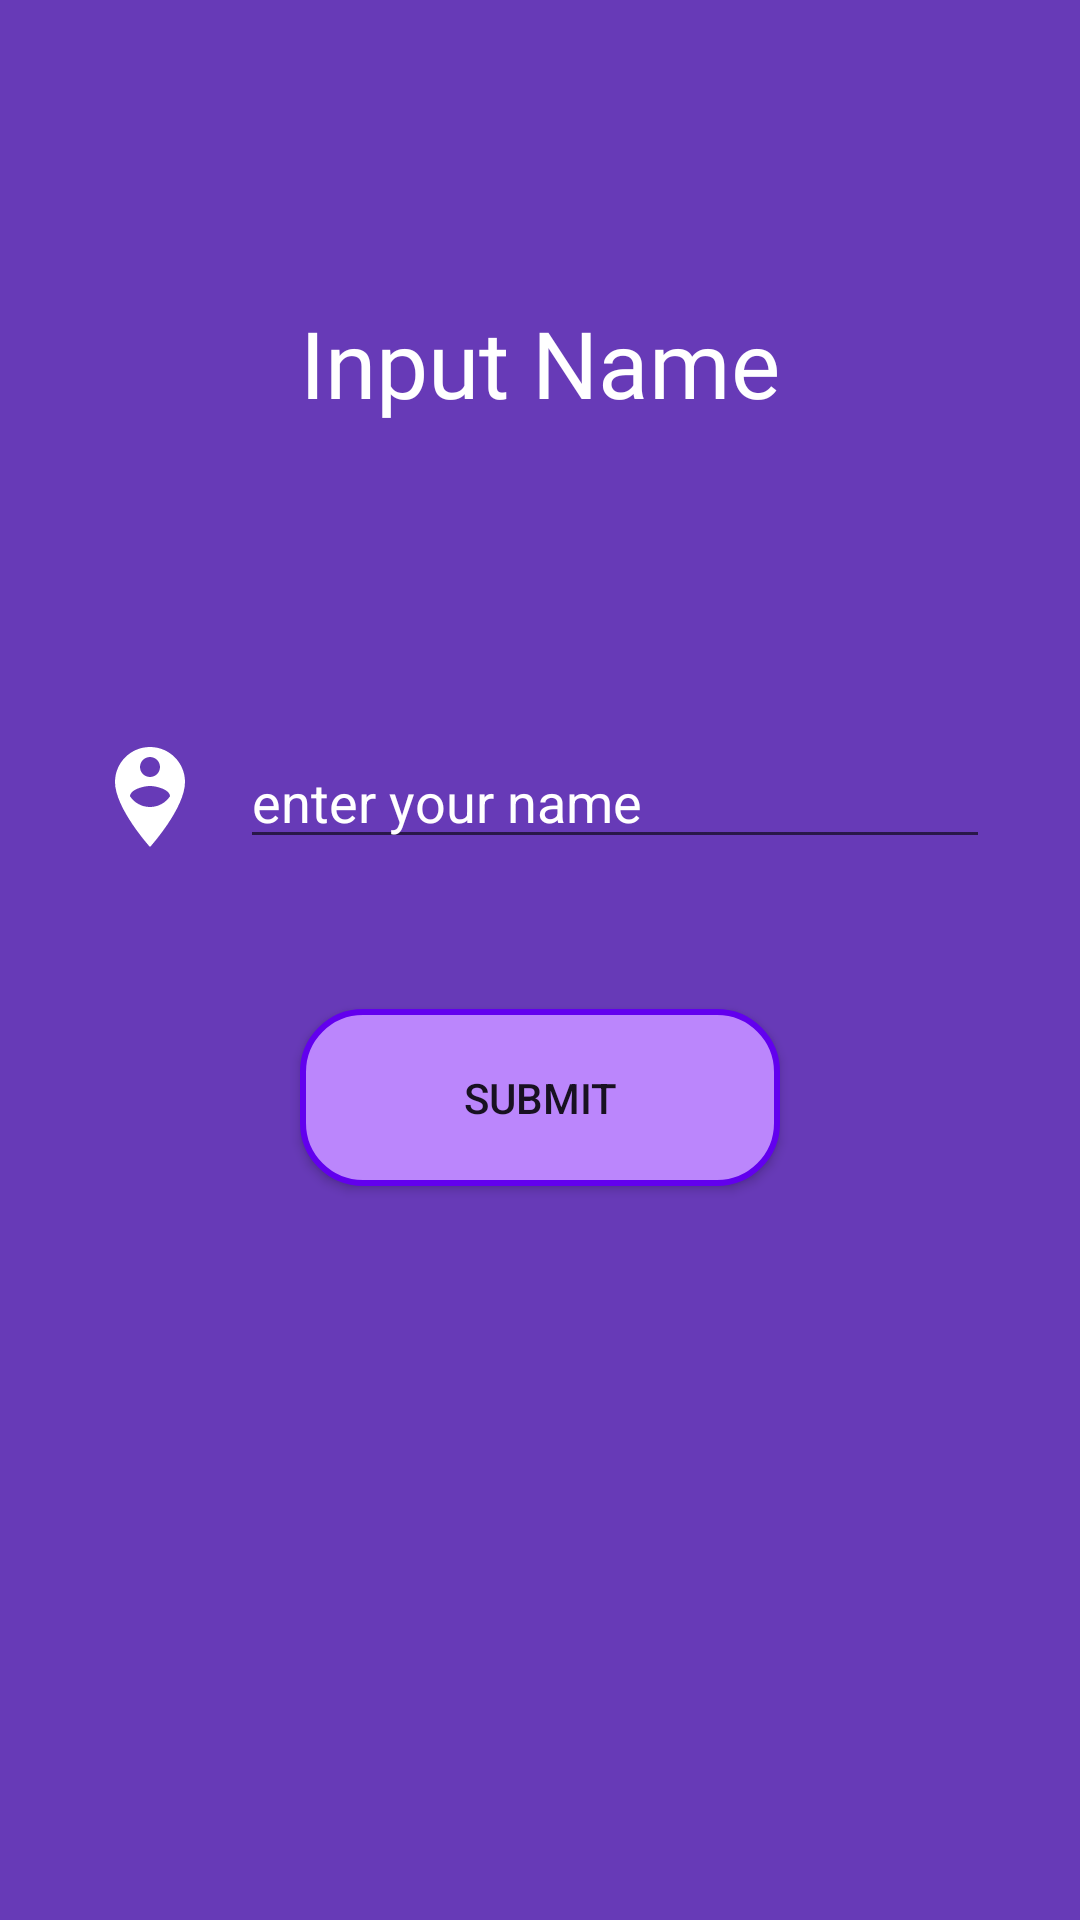

Icons on this 1080 x 1920 Android screen, each with the point to tap as (x,y):
person pin circle: (150,797)
